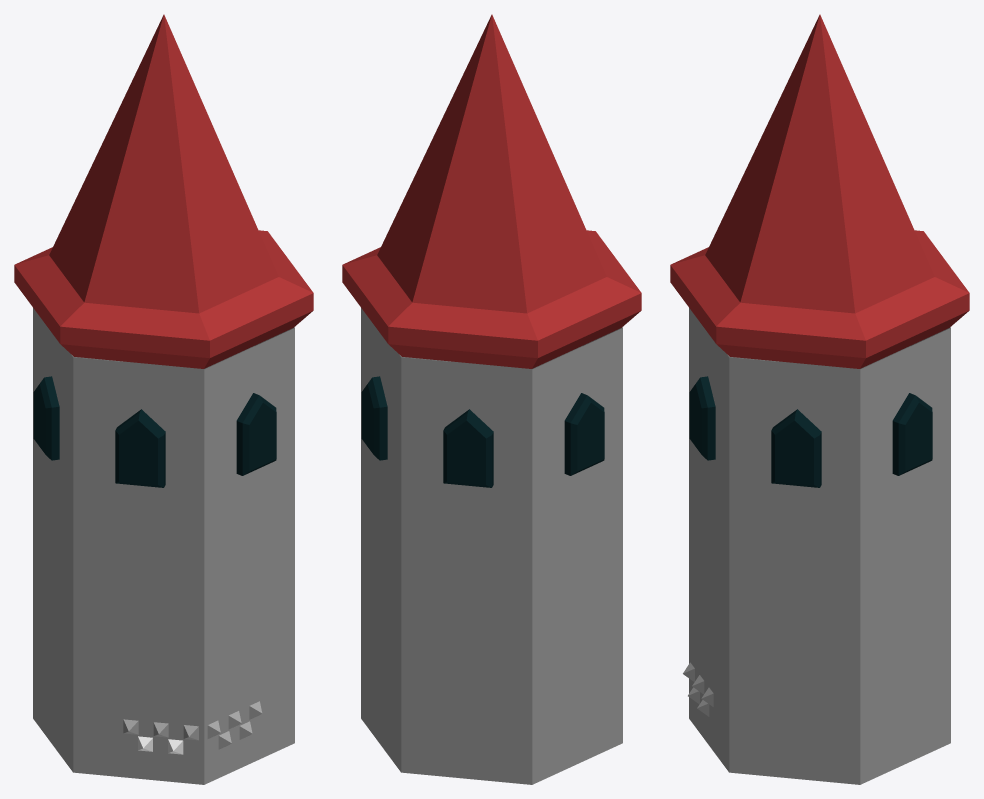
Rendered from TOWER 1.fbx.
The picture shows the model from 3 angles, left to right: view 1: azimuth 30°, elevation 25°; view 2: azimuth 150°, elevation 25°; view 3: azimuth 270°, elevation 25°; orthographic projection.
Parts seen in each view (by area): view 1: TOWER_1; view 2: TOWER_1; view 3: TOWER_1.
Boxes of the visible parts, x1=… form: TOWER_1: x1=14, y1=14, x2=313, y2=784; TOWER_1: x1=342, y1=14, x2=641, y2=784; TOWER_1: x1=670, y1=14, x2=969, y2=784.
Size of the model in its own units: 460 by 1243 by 471.
1 material, 1 textured.
